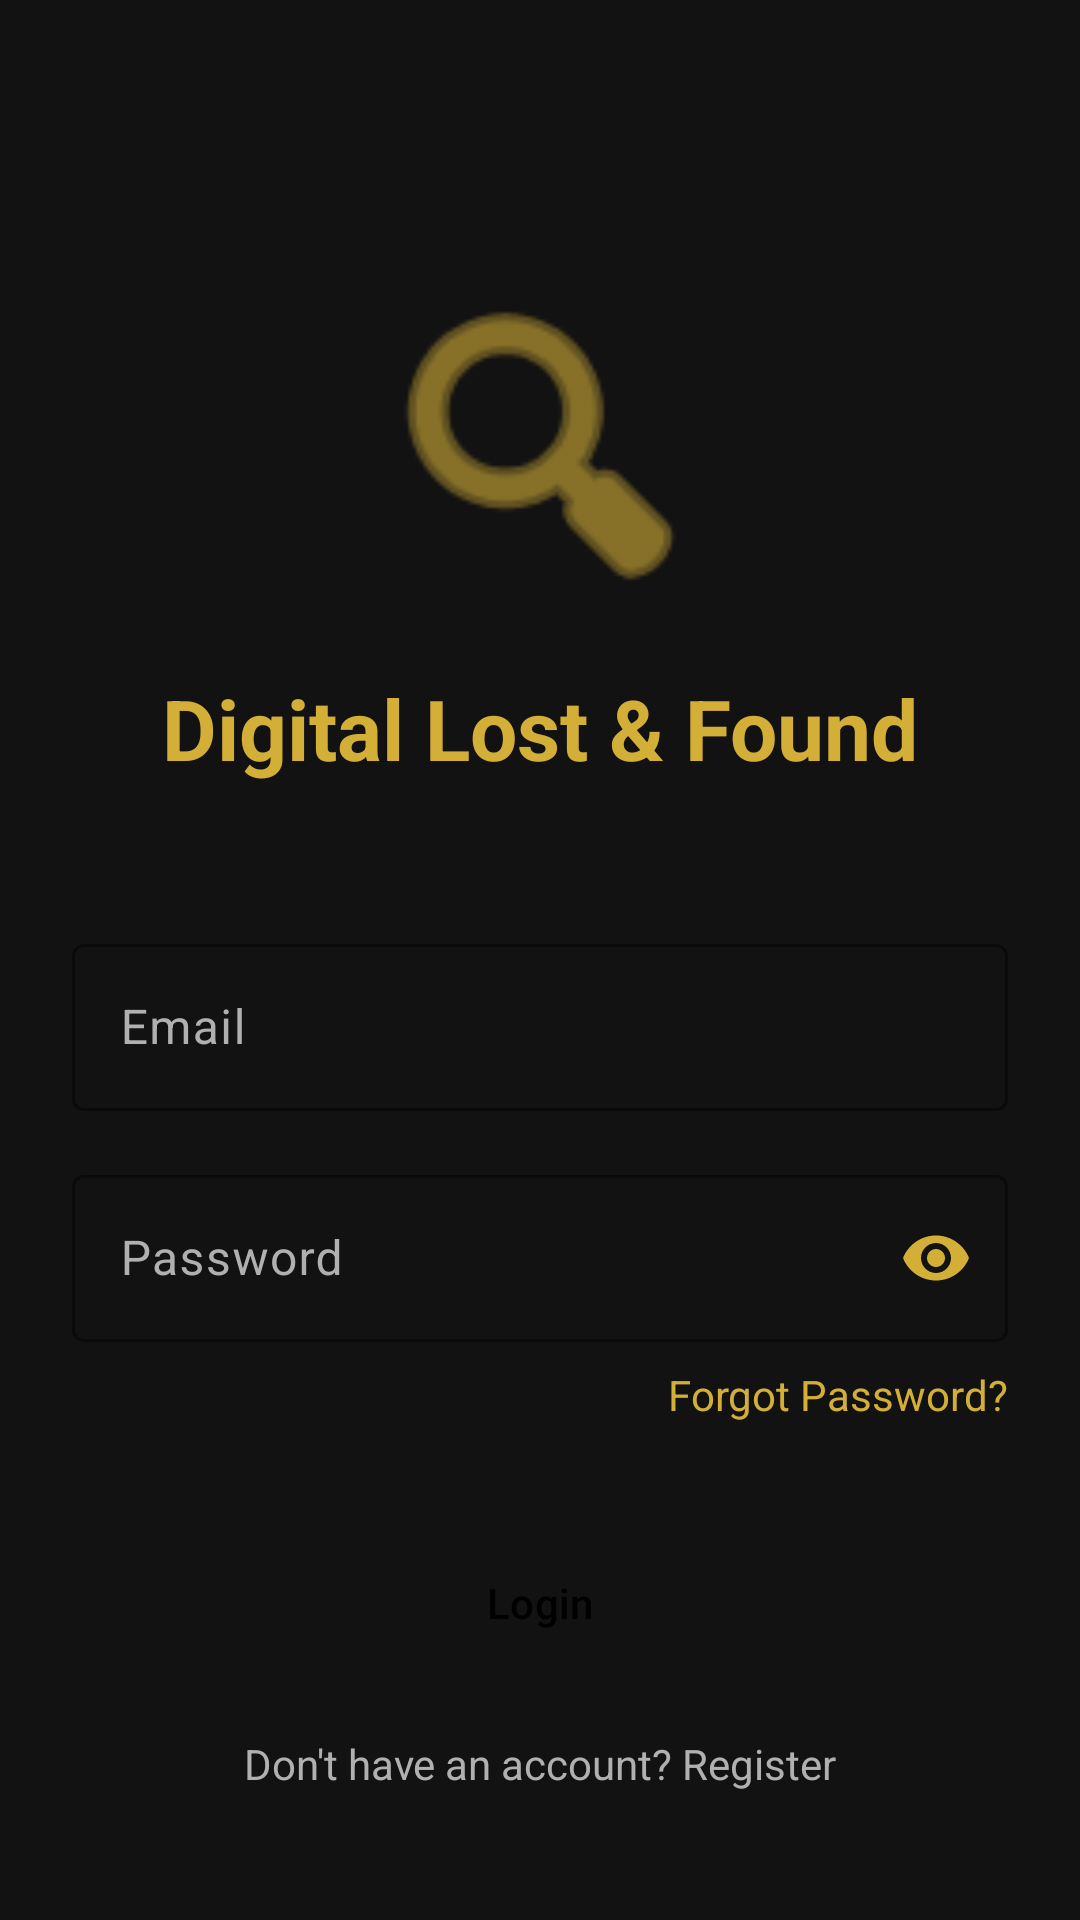

Named icons in this screenshot (1080px x 1920px) and their bounding boxes, [x1, y1, x2, y2]:
search: [407, 312, 673, 579]
